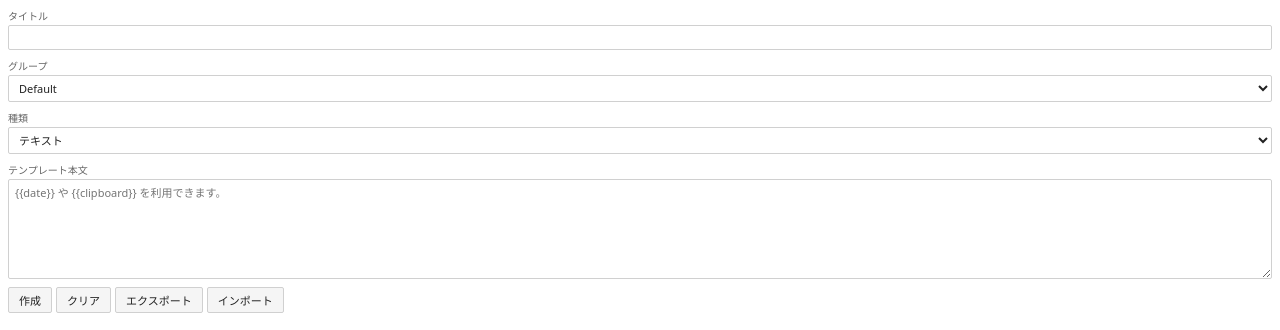
Test case: TemplateEditor › contentType toggle › switches to image mode
Select "画像" in the dropdown labelled "種類" at point(640, 140), box [8,127,1272,154]
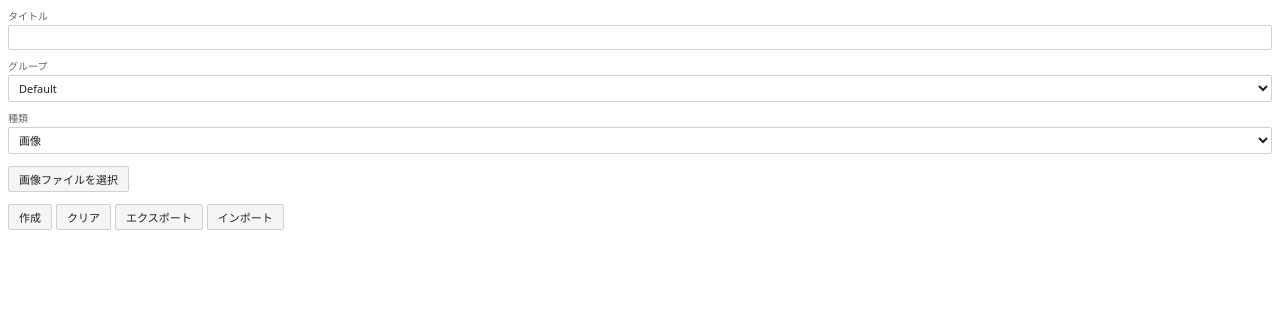
Check: the button "画像ファイルを選択" is shown, box [8,166,129,192]
Check: the text labelled "テンプレート本文" is gone
